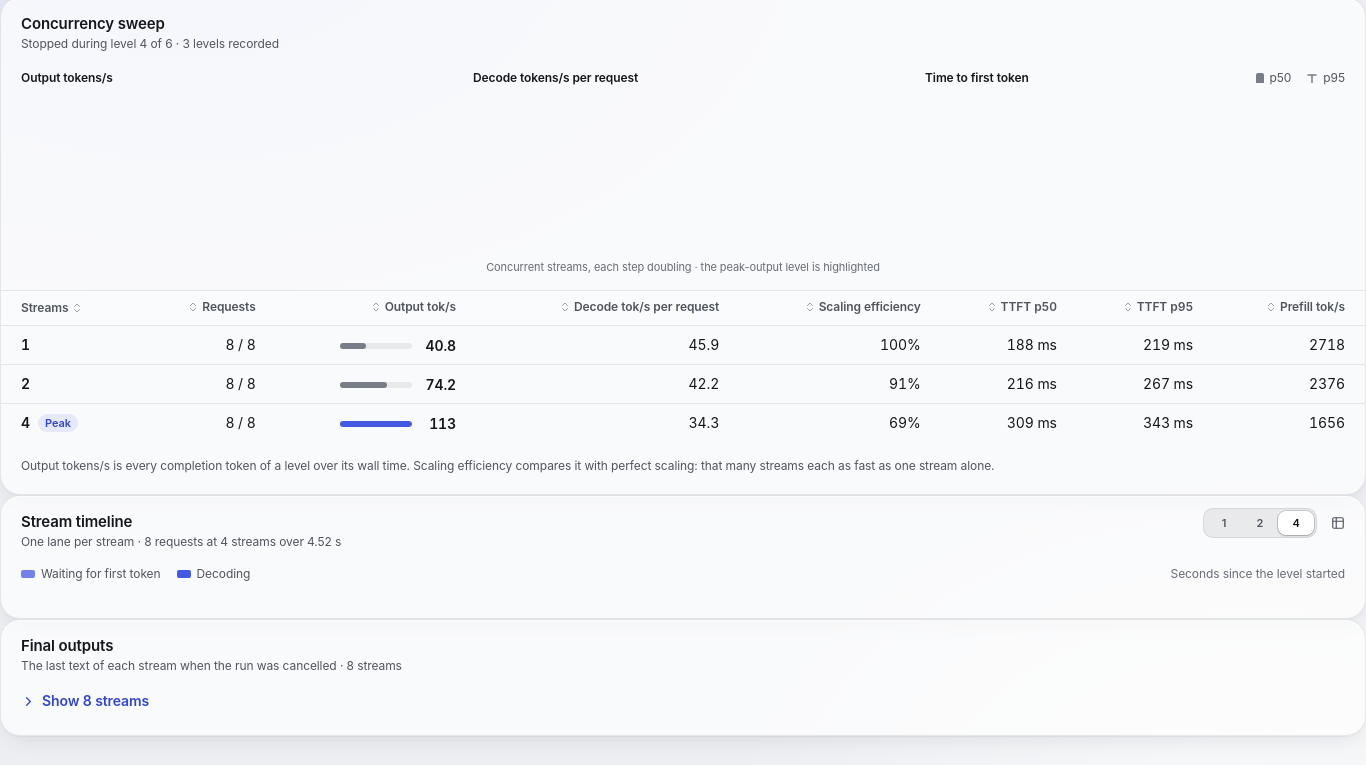
Test: after the run › keeps the final outputs behind a disclosure; a cancelled run’s streams read as stopped
The image size is (1366, 765).
expect the element "Concurrency sweep" shows "Stopped during level 4 of 6 · 3 levels recorded": met, box [21,36,279,51]
expect the radio buttons read "1", "2", "4", in this order: met, box [1206,511,1242,535]; [1242,511,1278,535]; [1278,511,1314,535]
Step 1. Click the heading "Show 8 streams" → coordinates (85, 701), box [21,690,149,712]
(page scrolled)
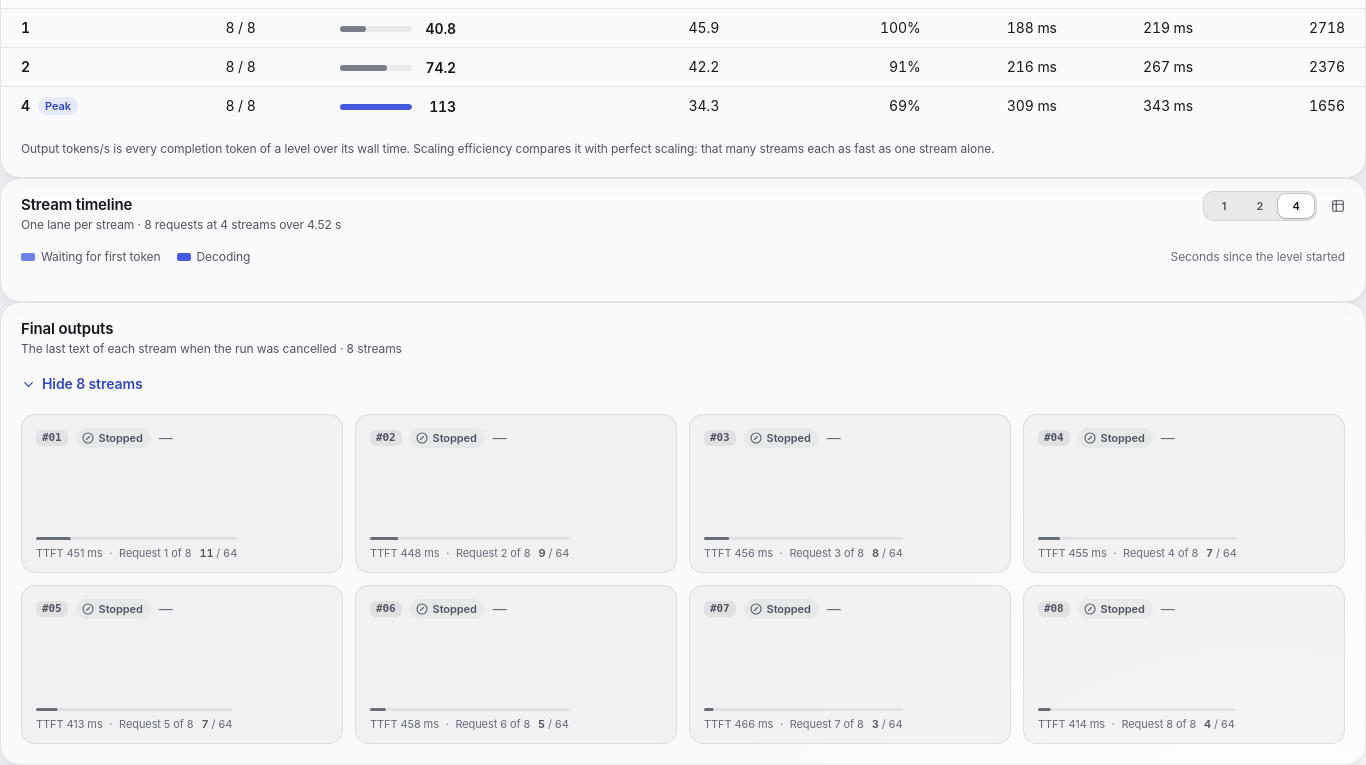
expect the heading "Hide 8 streams" is shown: met, box [21,373,142,395]
expect the text "Stopped" is shown 8 times: met
Step 2. Click the button "#01 Stopped — TTFT 451 ms Request 1 of 8 11 / 64" → coordinates (52, 438), box [21,414,343,572]
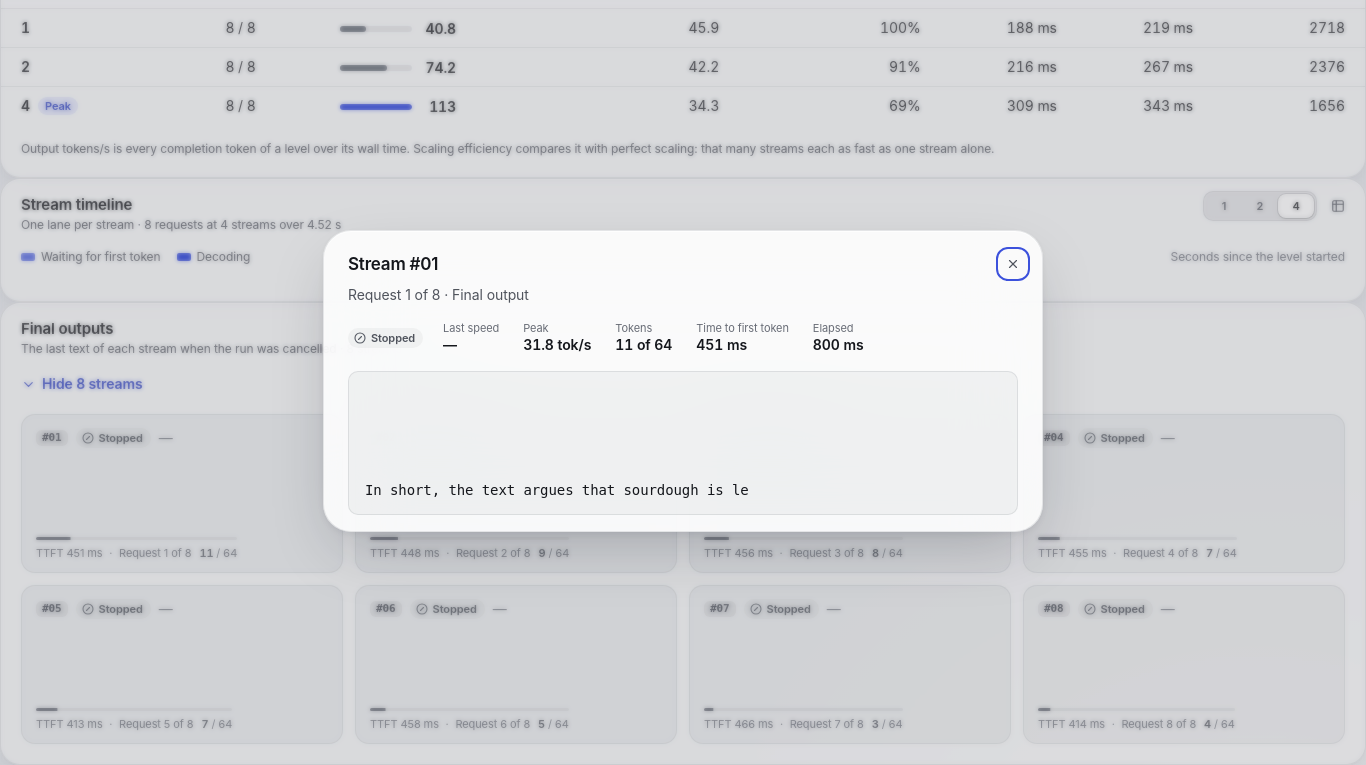
expect the dialog does not show "Speed now": met, box [323,230,1043,532]
expect the dialog shows "Last speed": met, box [443,321,499,335]
